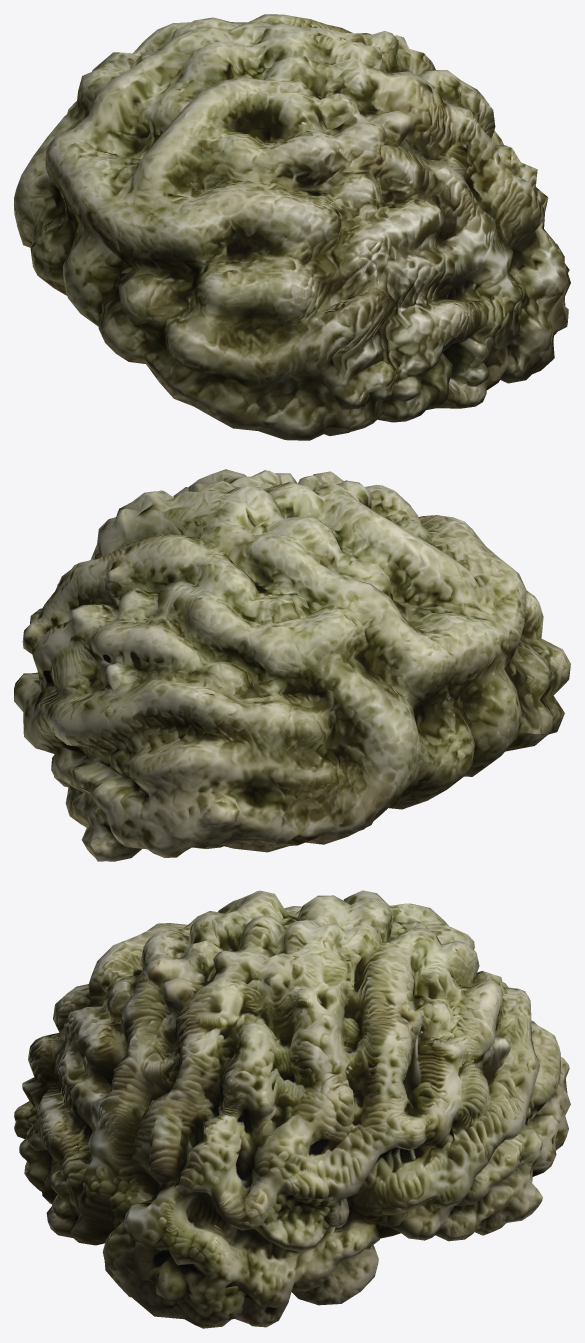
Rendered from Coral_Brain.fbx.
The picture shows the model from 3 angles, top to bottom: view 1: azimuth 30°, elevation 25°; view 2: azimuth 150°, elevation 25°; view 3: azimuth 270°, elevation 25°; orthographic projection. The views are drawn at different scales.
Visible parts, largest first — view 1: tripo_node_a9df2ae6; view 2: tripo_node_a9df2ae6; view 3: tripo_node_a9df2ae6.
Part boxes in pixels (x1,y1,x2,y2): tripo_node_a9df2ae6: (14, 14, 570, 440); tripo_node_a9df2ae6: (14, 469, 570, 861); tripo_node_a9df2ae6: (14, 890, 570, 1328).
Size of the model in its own units: 0.9321 by 0.6353 by 0.9995.
1 material, 1 textured.
